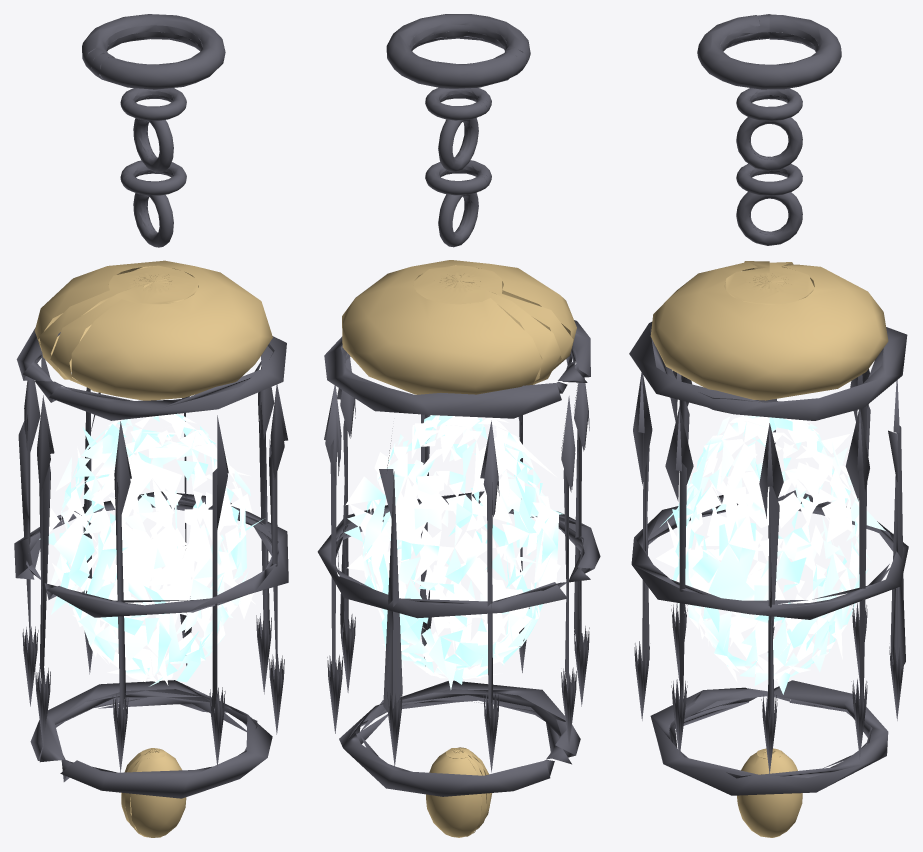
The model's file is soul_lantern.glb.
The picture shows the model from 3 angles, left to right: view 1: azimuth 30°, elevation 25°; view 2: azimuth 150°, elevation 25°; view 3: azimuth 270°, elevation 25°; orthographic projection.
Parts seen in each view (by area): view 1: cage_bar_0, soul_gem, cage_cap, hang_ring, finial, chain_0, chain_3, chain_1, chain_2; view 2: cage_bar_0, soul_gem, cage_cap, hang_ring, finial, chain_0, chain_1, chain_3, chain_2; view 3: cage_bar_0, soul_gem, cage_cap, hang_ring, finial, chain_1, chain_3, chain_0, chain_2.
Boxes of the visible parts, x1,y1,x2,y2 form: cage_bar_0: (14, 327, 288, 798); soul_gem: (39, 413, 263, 686); cage_cap: (34, 260, 272, 400); hang_ring: (82, 14, 225, 89); finial: (121, 748, 186, 837); chain_0: (120, 88, 186, 120); chain_3: (133, 193, 173, 247); chain_1: (133, 118, 173, 172); chain_2: (120, 160, 186, 195); cage_bar_0: (317, 320, 600, 796); soul_gem: (344, 415, 563, 689); cage_cap: (342, 260, 576, 394); hang_ring: (386, 14, 530, 88); finial: (426, 747, 492, 837); chain_0: (425, 87, 491, 120); chain_1: (438, 118, 478, 172); chain_3: (438, 193, 478, 247); chain_2: (425, 160, 491, 195); cage_bar_0: (629, 322, 908, 795); soul_gem: (656, 415, 885, 694); cage_cap: (650, 261, 888, 400); hang_ring: (697, 14, 841, 89); finial: (737, 748, 802, 837); chain_1: (736, 117, 802, 171); chain_3: (736, 192, 802, 245); chain_0: (736, 88, 802, 121); chain_2: (736, 163, 802, 195).
Size of the model in its own units: 0.7604 by 2.34 by 0.7458.
